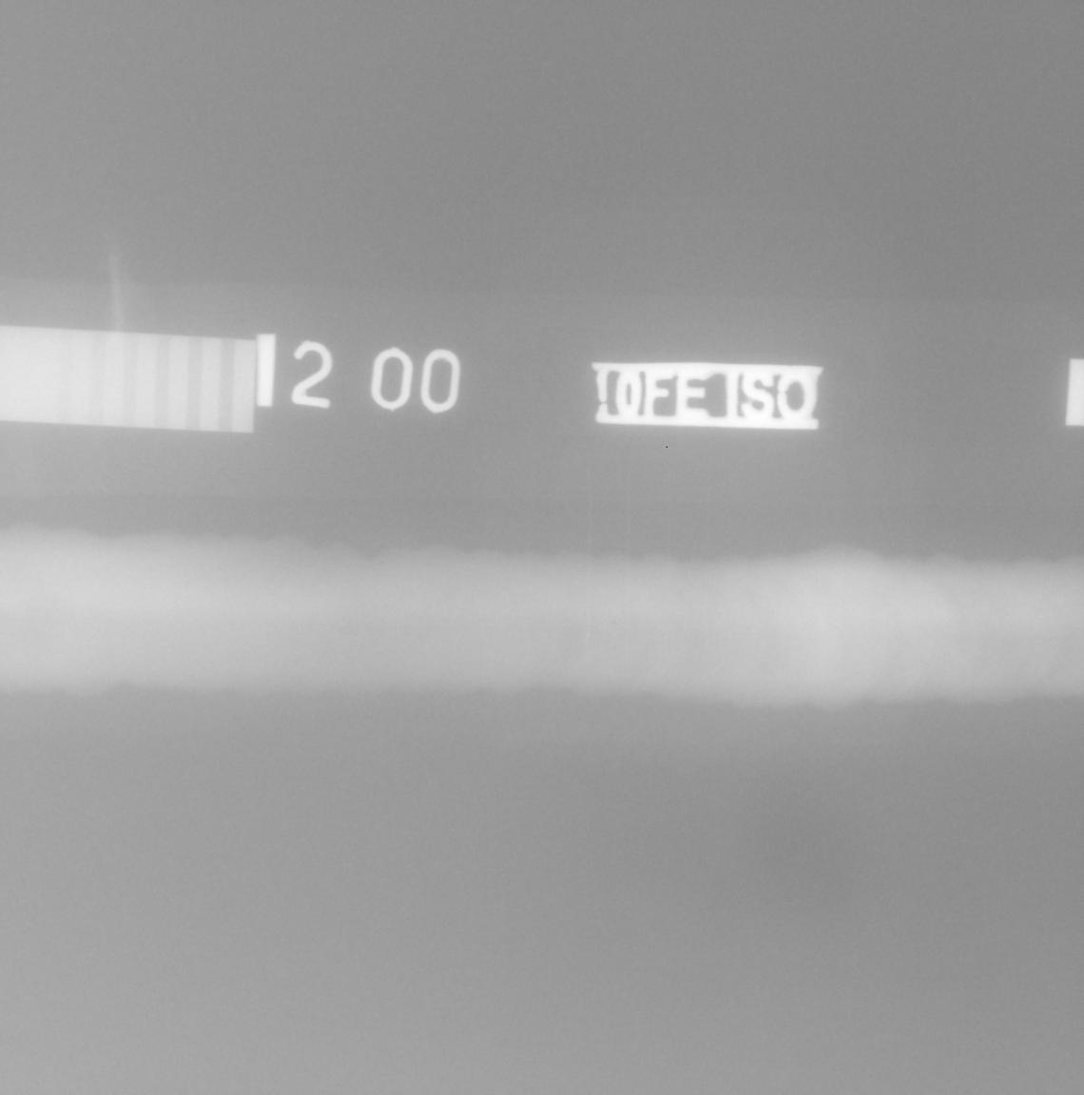Pore/Porosity: (611, 621, 617, 626)
